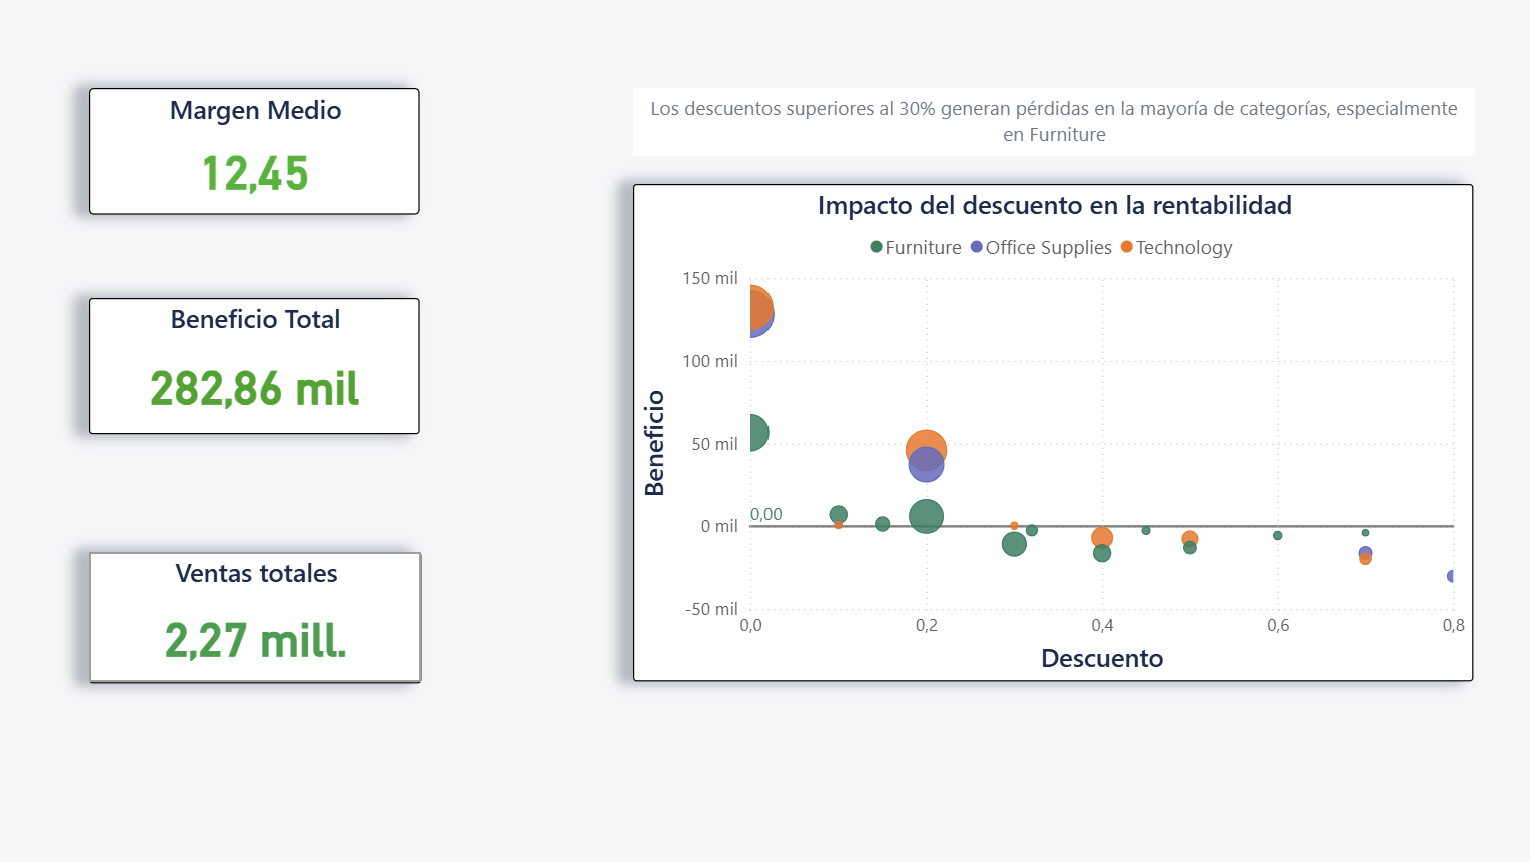

The dashboard page shown, as its layout file describes it:
{"tool":"powerbi","page":{"name":"Análisis descuento","canvas":[1280,720],"ordinal":1},"visuals":[{"type":"card","title":"Margen Medio","fields":{"Values":["superstore.Margen %"]},"box":[78.3,72.9,275.6,105.4],"z":0},{"type":"card","title":"Beneficio Total","fields":{"Values":["superstore.Total Beneficio"]},"box":[78.3,248.6,275.6,113.5],"z":1000},{"type":"card","title":"Ventas totales","fields":{"Values":["superstore.Total Ventas"]},"box":[78.3,459.3,276.9,109.4],"z":2000},{"type":"scatterChart","title":"Impacto del descuento en la rentabilidad","fields":{"Series":["superstore.Category"],"Size":["Sum(superstore.Sales)"],"X":["superstore.Discount"],"Y":["Sum(superstore.Profit)"]},"box":[532.2,154,699.7,414.7],"z":3000},{"type":"textbox","box":[532.2,72.9,701.1,56.7],"z":4000}]}

Visuals, with their boxes in screenshot pixels (x1, y1, x2, y2), scaled from the page's 1280x720 canvas onto the 1530x862 screenshot:
"Margen Medio" card: l=94, t=87, r=423, b=213
"Beneficio Total" card: l=94, t=298, r=423, b=434
"Ventas totales" card: l=94, t=550, r=425, b=681
"Impacto del descuento en la rentabilidad" scatterChart: l=636, t=184, r=1473, b=681
textbox: l=636, t=87, r=1474, b=155
